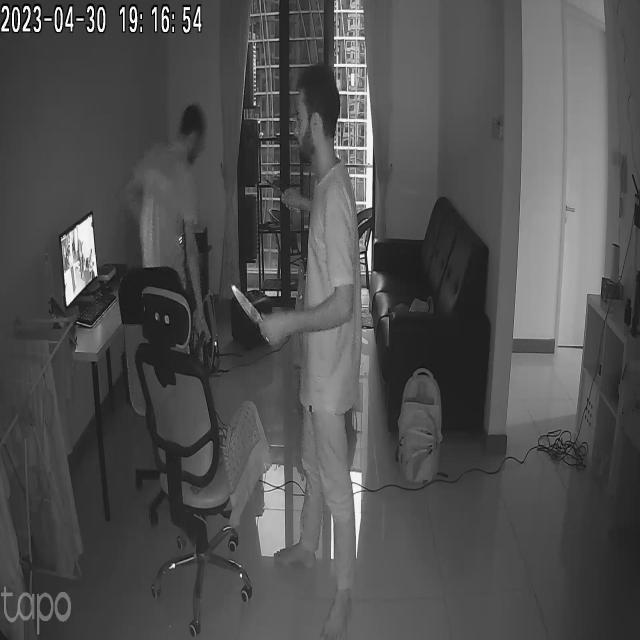Knife: (230, 284, 272, 344)
